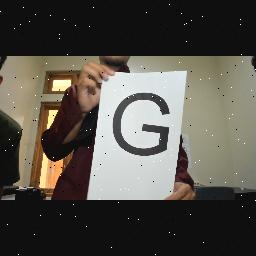g: (108, 89, 176, 171)
